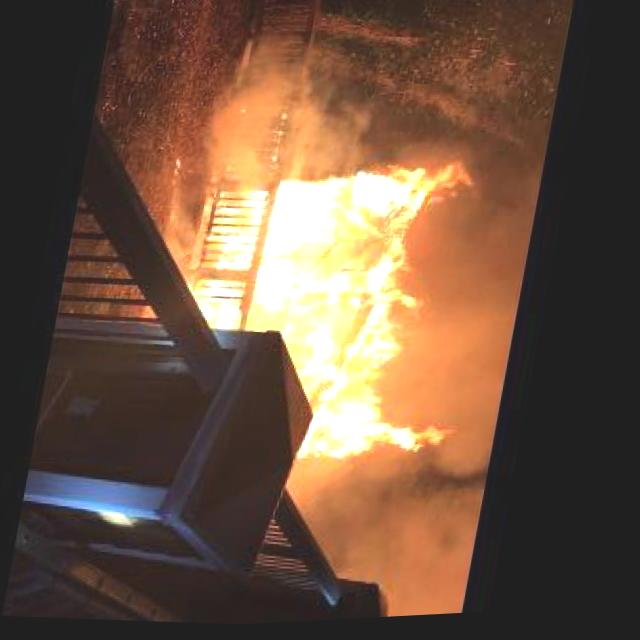Fire: (183, 132, 508, 483)
